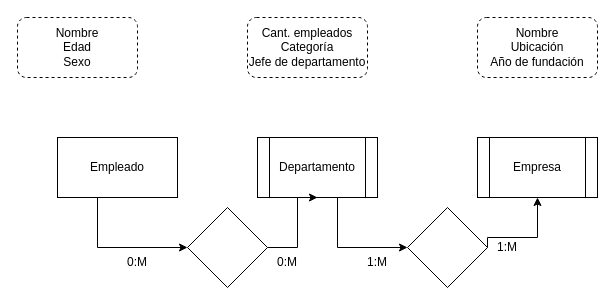
Some shapes in this 615 by 305 pixel diagram are drawn without their labels. Each missing label, with the centre of its shape:
pertenece: [447,247]
trabaja: [227,247]
